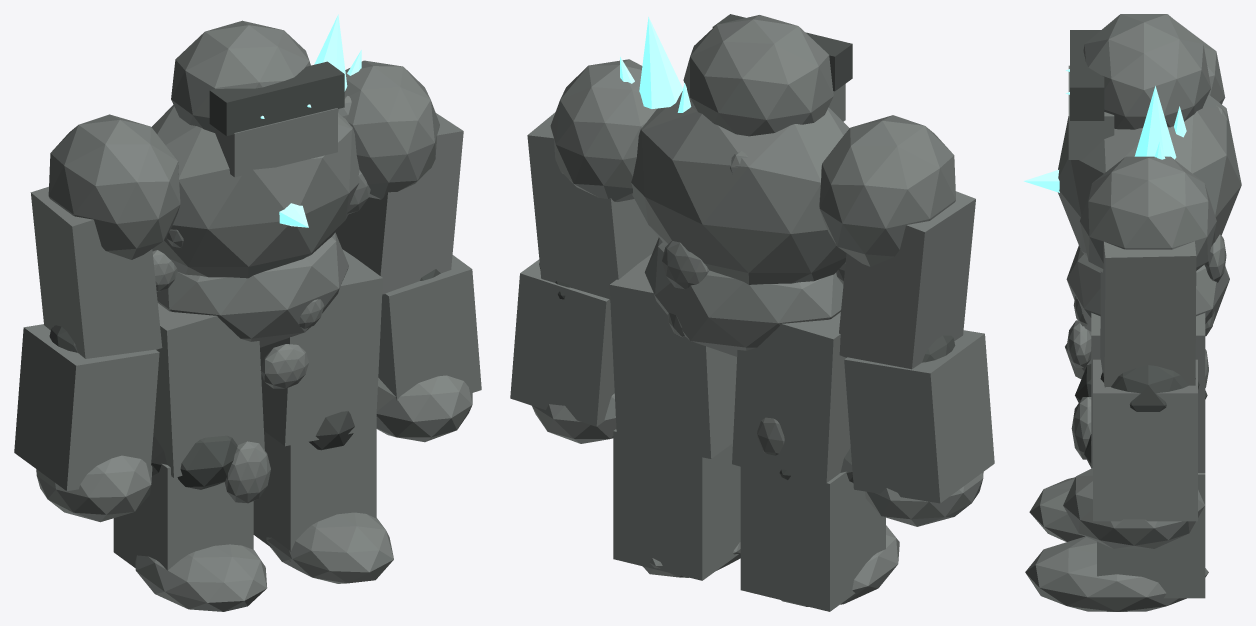
File: enemy-stone-guardian.glb
3 views of the same model, side by side, from view 1: azimuth 30°, elevation 25°; view 2: azimuth 150°, elevation 25°; view 3: azimuth 270°, elevation 25° (orthographic). The views are drawn at different scales.
Parts seen in each view (by area): view 1: Guardian_Chest, Guardian_L_Forearm, Guardian_L_UpperArm, Guardian_L_Shoulder, Guardian_L_Thigh, Guardian_R_Thigh, Guardian_R_UpperArm, Guardian_R_Forearm, Guardian_Pelvis, Guardian_R_Shin, Guardian_R_Shoulder, Guardian_L_Shin (+13 smaller); view 2: Guardian_Chest, Guardian_L_Forearm, Guardian_R_Thigh, Guardian_L_Shin, Guardian_L_UpperArm, Guardian_L_Thigh, Guardian_R_Shin, Guardian_L_Shoulder, Guardian_Head, Guardian_R_Forearm, Guardian_R_UpperArm, Guardian_Pelvis (+8 smaller); view 3: Guardian_R_Forearm, Guardian_R_UpperArm, Guardian_R_Shoulder, Guardian_Head, Guardian_Chest, Guardian_R_Foot, Guardian_R_Shin, Guardian_R_Hand, Guardian_Pelvis, Guardian_Brow, Guardian_R_Elbow, Guardian_R_Thigh (+9 smaller).
Boxes of the visible parts, x1=… form: Guardian_Chest: x1=151, y1=105, x2=359, y2=278; Guardian_L_Forearm: x1=14, y1=324, x2=159, y2=490; Guardian_L_UpperArm: x1=30, y1=186, x2=162, y2=358; Guardian_L_Shoulder: x1=48, y1=114, x2=180, y2=259; Guardian_L_Thigh: x1=153, y1=303, x2=264, y2=477; Guardian_R_Thigh: x1=260, y1=249, x2=382, y2=446; Guardian_R_UpperArm: x1=335, y1=113, x2=463, y2=294; Guardian_R_Forearm: x1=378, y1=255, x2=481, y2=401; Guardian_Pelvis: x1=156, y1=232, x2=348, y2=347; Guardian_R_Shin: x1=253, y1=417, x2=376, y2=561; Guardian_R_Shoulder: x1=344, y1=60, x2=439, y2=199; Guardian_L_Shin: x1=113, y1=463, x2=253, y2=570; Guardian_Chest: x1=631, y1=91, x2=849, y2=284; Guardian_L_Forearm: x1=844, y1=330, x2=994, y2=503; Guardian_R_Thigh: x1=609, y1=254, x2=736, y2=458; Guardian_L_Shin: x1=740, y1=462, x2=885, y2=611; Guardian_L_UpperArm: x1=839, y1=191, x2=975, y2=369; Guardian_L_Thigh: x1=732, y1=312, x2=850, y2=491; Guardian_R_Shin: x1=613, y1=429, x2=740, y2=580; Guardian_L_Shoulder: x1=819, y1=115, x2=955, y2=266; Guardian_Head: x1=683, y1=15, x2=833, y2=136; Guardian_R_Forearm: x1=510, y1=259, x2=614, y2=426; Guardian_R_UpperArm: x1=527, y1=112, x2=658, y2=299; Guardian_Pelvis: x1=644, y1=237, x2=843, y2=356; Guardian_R_Forearm: x1=1093, y1=359, x2=1197, y2=521; Guardian_R_UpperArm: x1=1100, y1=241, x2=1196, y2=387; Guardian_R_Shoulder: x1=1079, y1=156, x2=1216, y2=272; Guardian_Head: x1=1083, y1=14, x2=1210, y2=129; Guardian_Chest: x1=1058, y1=94, x2=1241, y2=256; Guardian_R_Foot: x1=1025, y1=536, x2=1208, y2=611; Guardian_R_Shin: x1=1097, y1=473, x2=1205, y2=598; Guardian_R_Hand: x1=1063, y1=468, x2=1204, y2=548; Guardian_Pelvis: x1=1066, y1=245, x2=1229, y2=331; Guardian_Brow: x1=1070, y1=30, x2=1104, y2=120; Guardian_R_Elbow: x1=1100, y1=365, x2=1199, y2=411; Guardian_R_Thigh: x1=1091, y1=313, x2=1205, y2=472.
Bounding box in the file's own units: 2.69 × 3.4 × 1.22.
